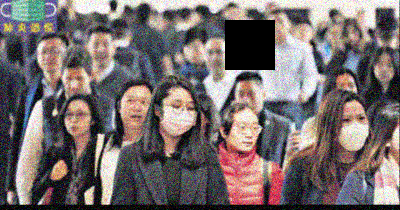with_mask: (160, 96, 196, 137), (337, 110, 369, 149)
without_mask: (226, 118, 259, 151), (119, 93, 149, 127), (63, 106, 90, 135), (36, 44, 62, 72), (235, 85, 261, 113), (87, 38, 111, 66), (205, 45, 227, 73), (62, 73, 87, 95), (373, 57, 395, 82), (266, 16, 288, 38), (182, 43, 204, 63), (343, 29, 360, 46)
